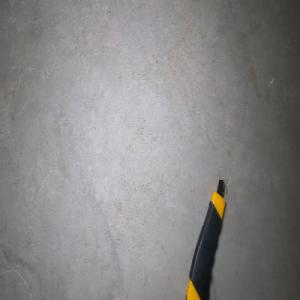Cutter: (185, 178, 227, 300)
